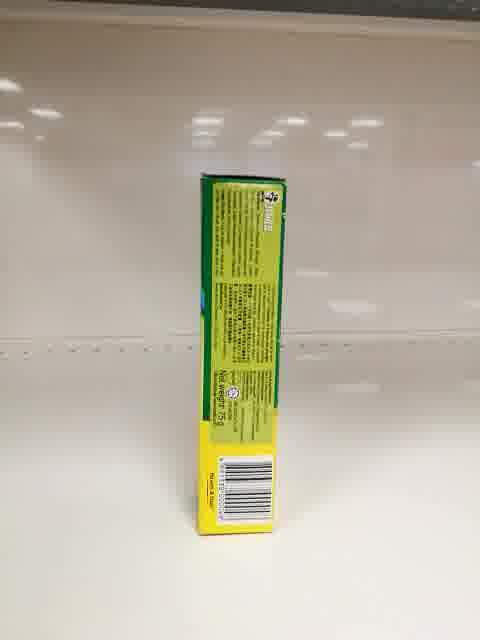toothpaste: (197, 172, 286, 535)
